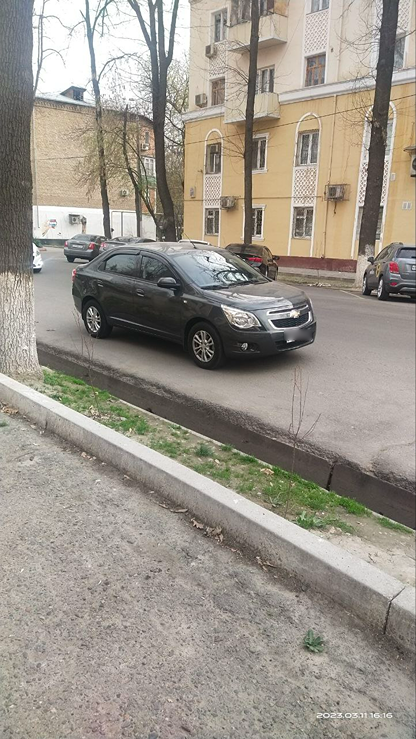car: (71, 245, 321, 366), (362, 242, 416, 303), (59, 221, 99, 253)
tree: (211, 0, 282, 226), (126, 0, 190, 222), (65, 7, 118, 214), (359, 3, 404, 237)
